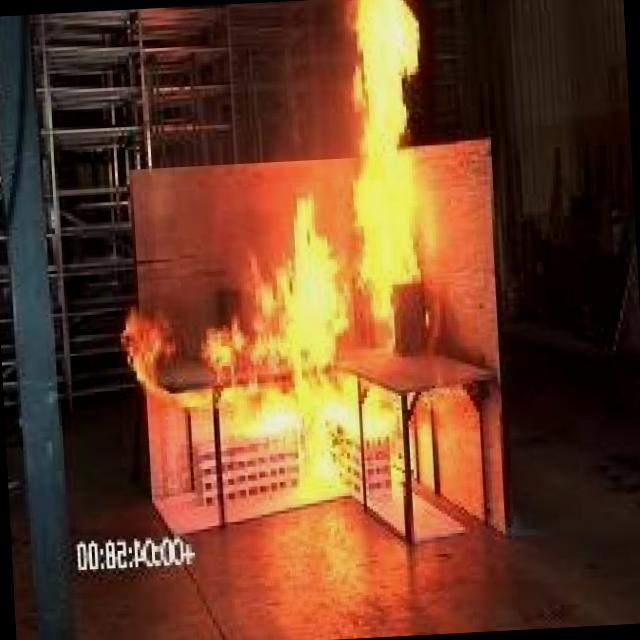fire: (160, 0, 495, 568)
